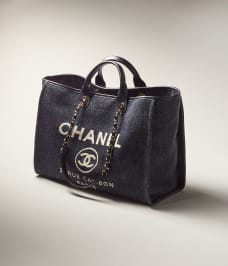channel: (33, 59, 188, 218), (55, 115, 127, 151), (73, 142, 104, 172)
